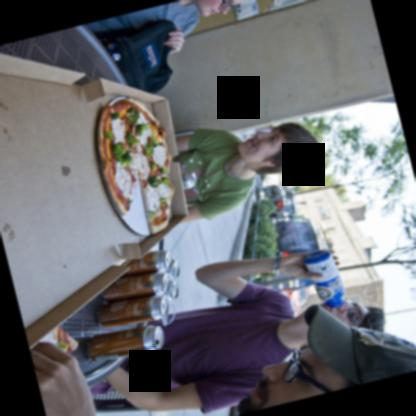backpack: (91, 19, 175, 95)
handbag: (95, 16, 178, 94)
